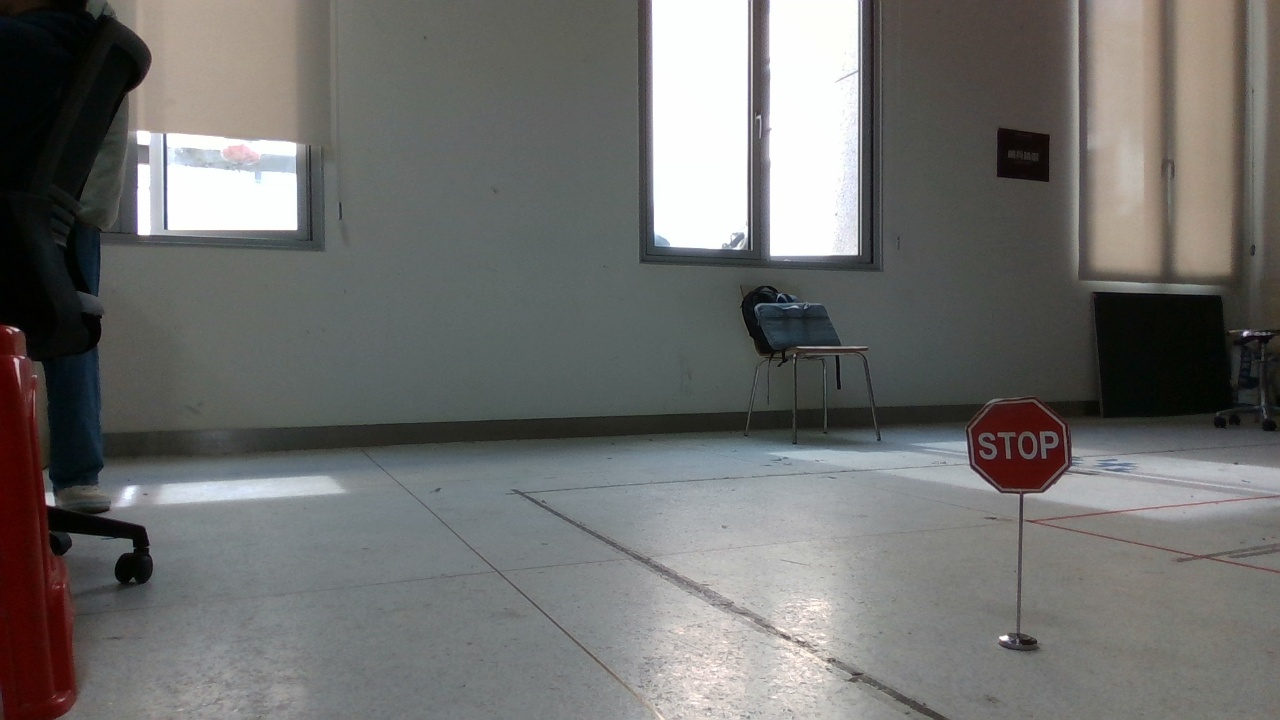stop_sign: (949, 384, 1083, 668)
